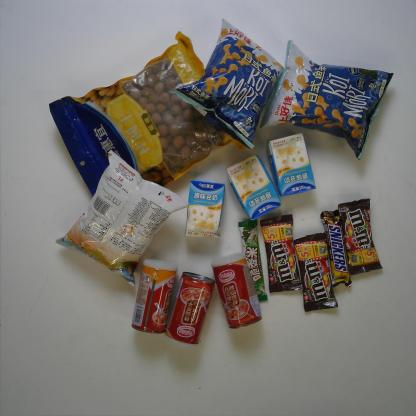Canned Food: (212, 251, 265, 330), (128, 253, 179, 335), (162, 271, 215, 346)
Chocolate: (292, 230, 341, 310), (338, 195, 383, 275), (259, 213, 304, 290), (238, 217, 270, 305), (323, 208, 352, 287)
Dried Food: (50, 31, 245, 204)
Milk: (224, 155, 280, 221), (268, 134, 318, 199), (183, 178, 228, 242)
Puffed Food: (54, 149, 189, 293), (263, 36, 394, 160), (173, 17, 286, 150)
